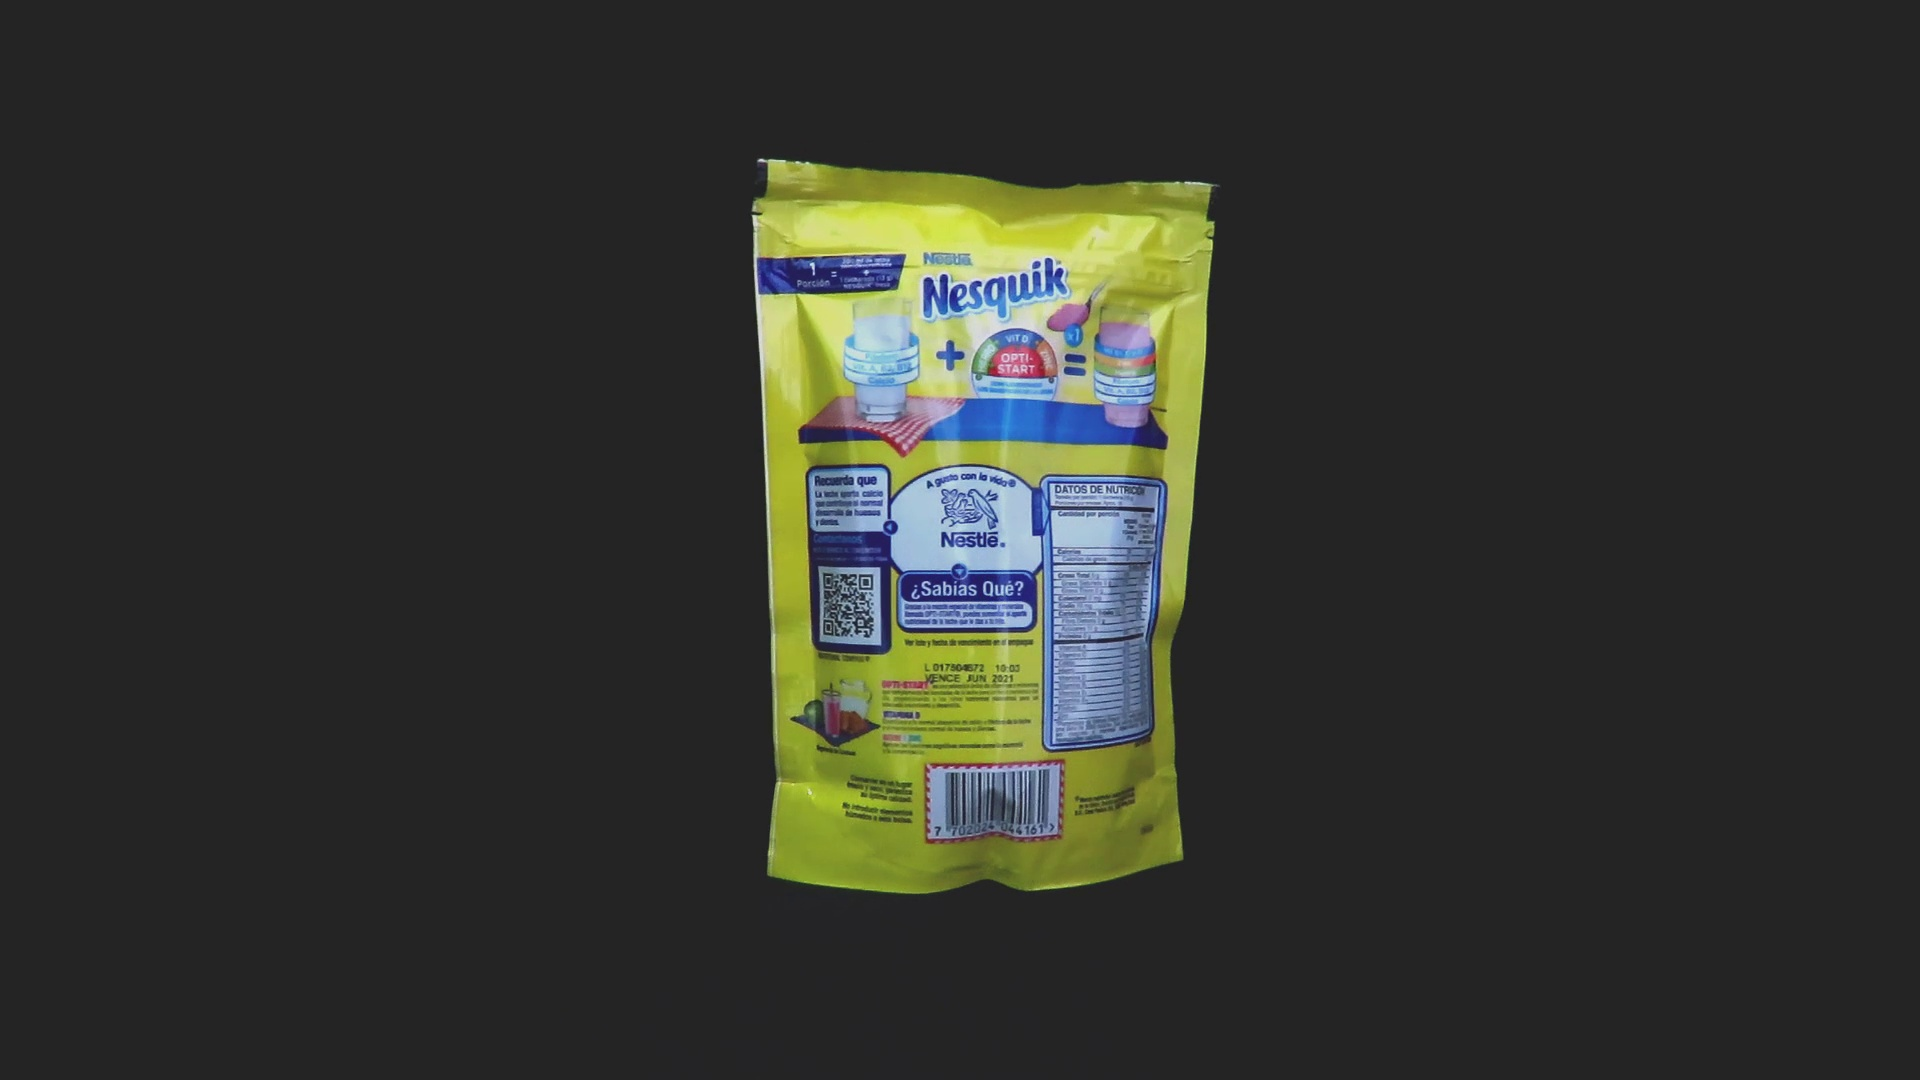COL0170305DYP20000: (746, 153, 1226, 899)
